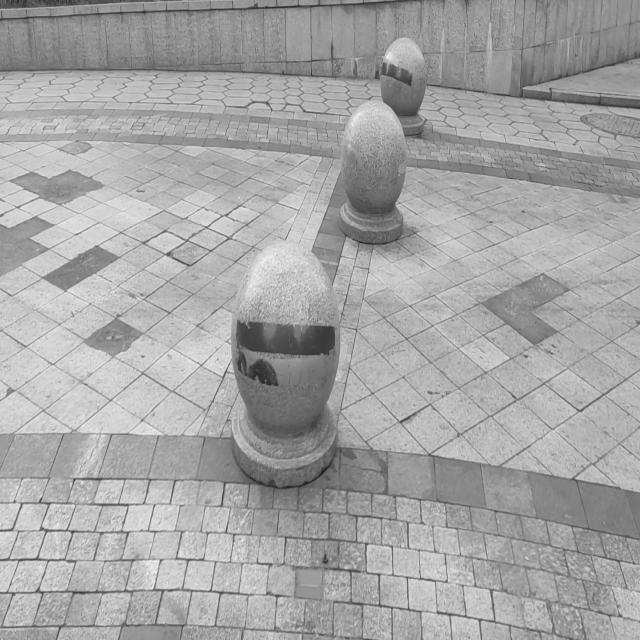spherical_roadblock: (228, 238, 343, 491), (340, 101, 408, 243), (378, 36, 426, 136)
